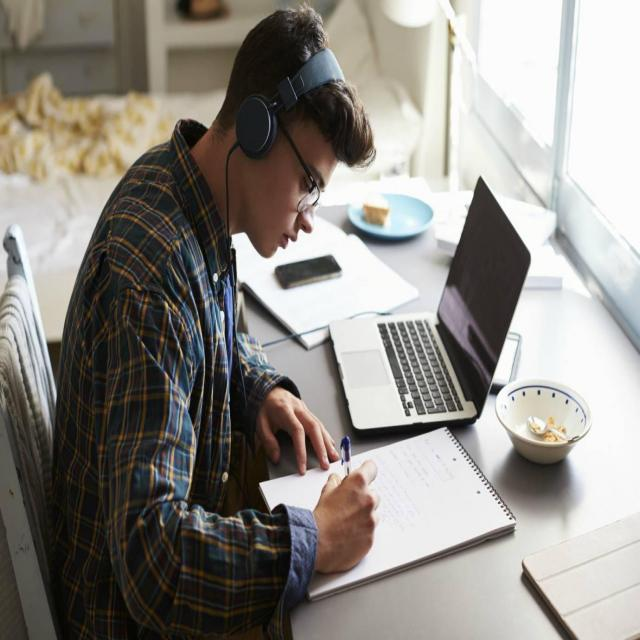person: (33, 15, 358, 639)
